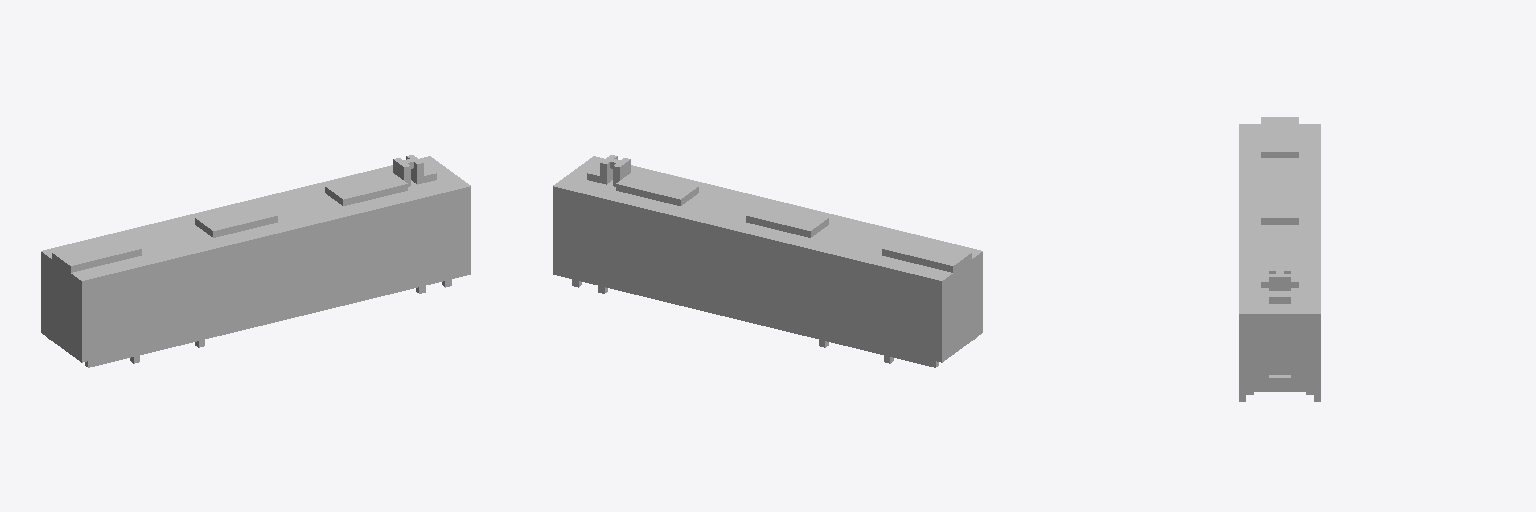
The model's file is train.obj.
3 views of the same model, side by side, from view 1: azimuth 30°, elevation 25°; view 2: azimuth 150°, elevation 25°; view 3: azimuth 270°, elevation 25° (orthographic).
Visible parts, largest first — view 1: train; view 2: train; view 3: train.
Boxes of the visible parts, box(x1,y1,x2,y2) form: train: box(41, 155, 470, 367); train: box(553, 155, 982, 367); train: box(1239, 117, 1320, 401).
Bounding box in the file's own units: 60 × 17 × 11.